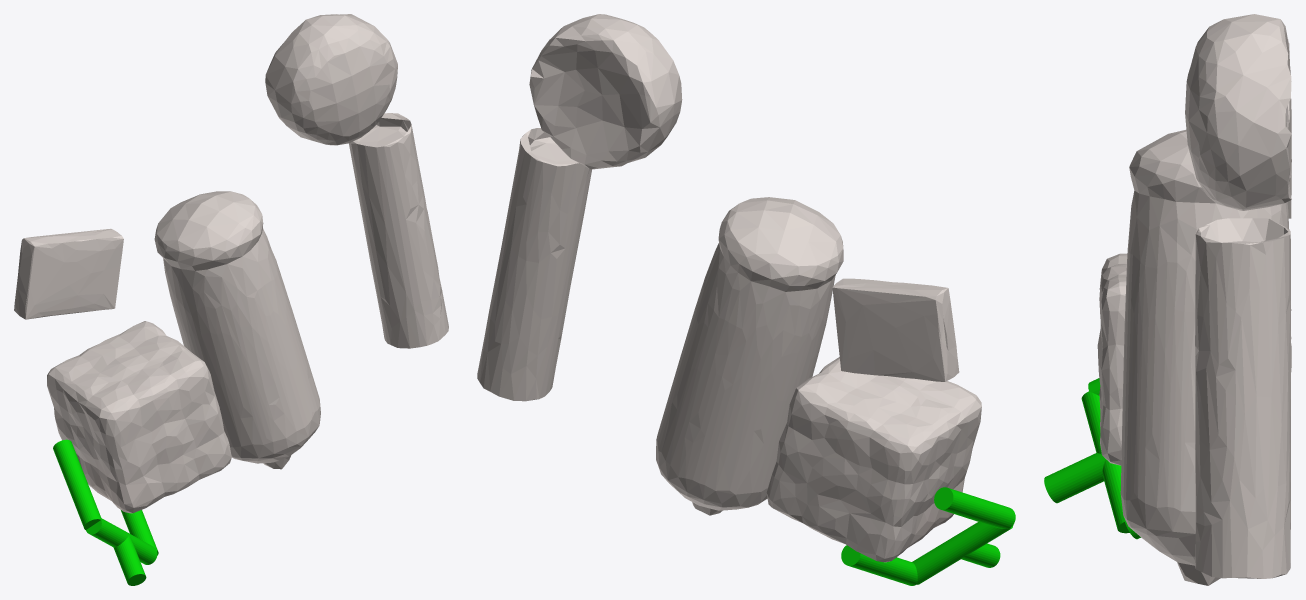
The model's file is round_000_trial_000.obj.
3 views of the same model, side by side, from view 1: azimuth 30°, elevation 25°; view 2: azimuth 150°, elevation 25°; view 3: azimuth 270°, elevation 25° (orthographic). The views are drawn at different scales.
Parts seen in each view (by area): view 1: geometry_0, geometry_1; view 2: geometry_0, geometry_1; view 3: geometry_0, geometry_1.
Part boxes in pixels (<box>): geometry_0: <box>14,14,448,513</box>; geometry_1: <box>53,439,158,585</box>; geometry_0: <box>477,14,981,562</box>; geometry_1: <box>841,487,1015,585</box>; geometry_0: <box>1097,14,1291,585</box>; geometry_1: <box>1044,378,1140,539</box>.
Bounding box in the file's own units: 0.2415 × 0.2553 × 0.0852.
